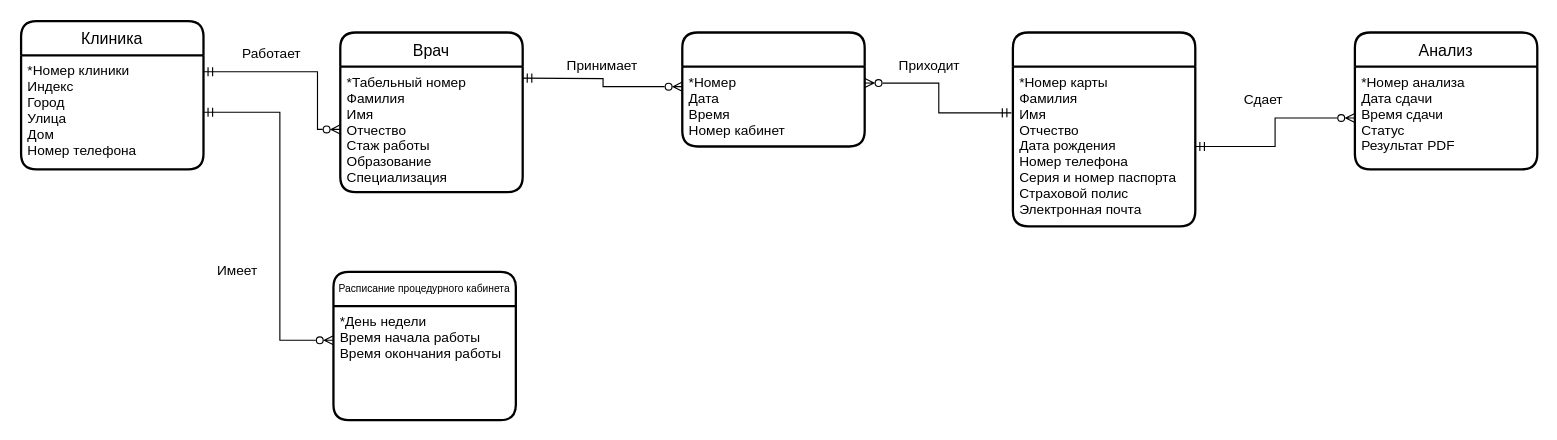
The diagram is 1557 pixels wide and 440 high, and some of its shapes have lost their labels. The shapes that lost their labels are listed below. From the top down, each one's box as (x1, y1, x2, y2) in pixels, then its label:
(681, 31, 865, 147): Запись
(1011, 31, 1196, 227): Пациент
